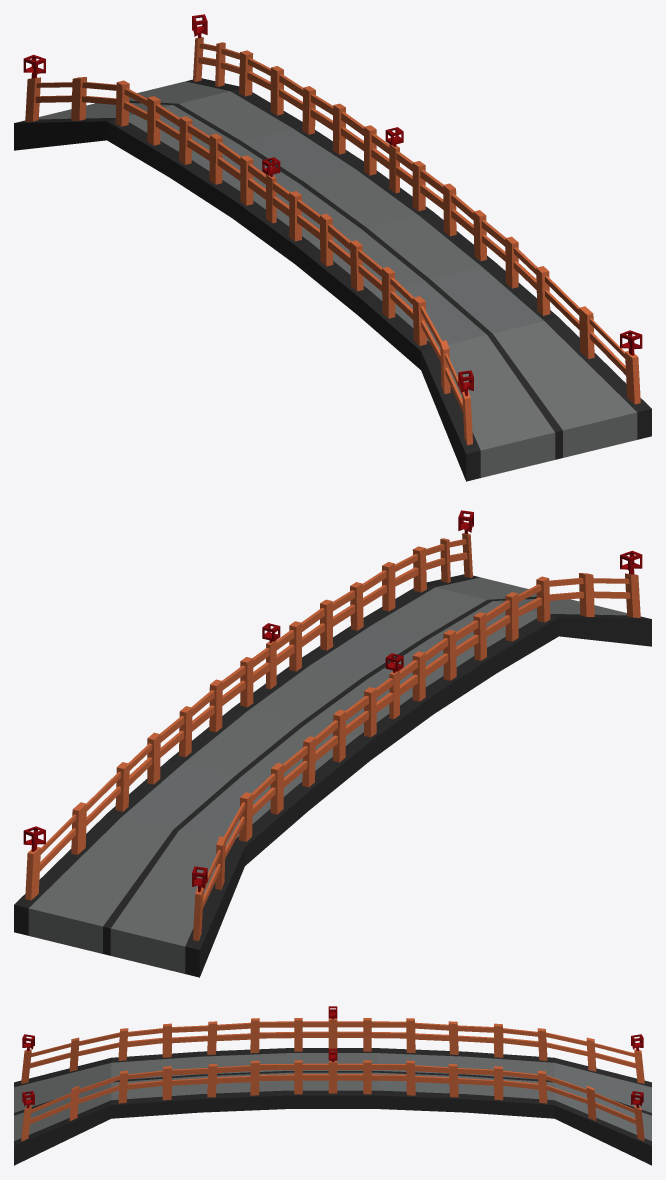
The model's file is Pont.fbx.
3 renders of one model, top to bottom at view 1: azimuth 30°, elevation 25°; view 2: azimuth 150°, elevation 25°; view 3: azimuth 270°, elevation 25°, orthographic. The views are drawn at different scales.
Visible parts, largest first — view 1: Cube; view 2: Cube; view 3: Cube.
Part boxes in pixels (x1,y1,x2,y2): Cube: (14,14,651,481); Cube: (14,510,651,977); Cube: (14,1006,651,1165).
Size of the model in its own units: 342 by 259 by 1440.
